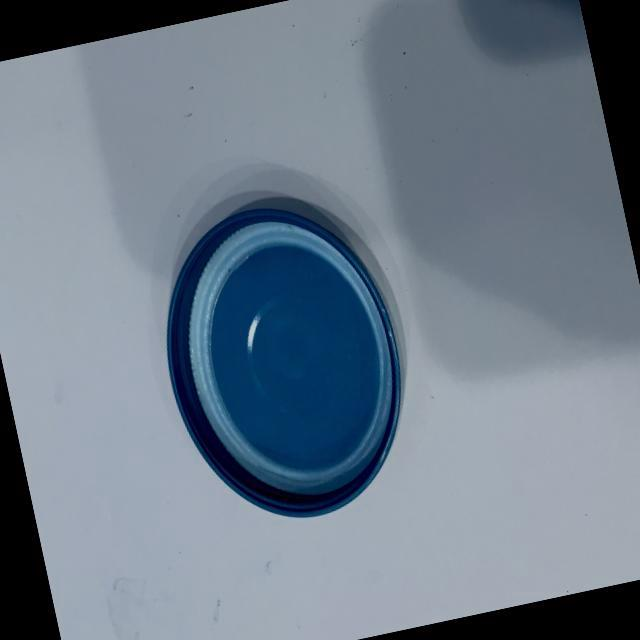metal: (122, 165, 442, 548)
